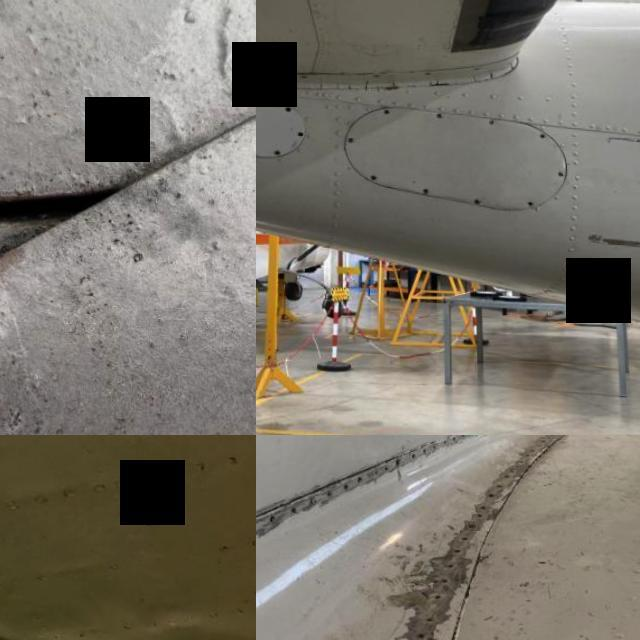Crack: (0, 230, 36, 362)
Dent: (0, 586, 256, 640)
Missing_Fastener: (268, 514, 274, 524), (284, 106, 292, 112), (416, 632, 424, 638), (452, 546, 460, 552), (459, 534, 467, 540), (288, 506, 294, 514), (324, 490, 331, 496), (383, 108, 389, 114), (424, 616, 430, 622), (434, 592, 440, 598), (410, 452, 416, 458), (539, 131, 546, 136), (383, 464, 388, 471), (474, 512, 482, 516), (441, 576, 446, 582), (420, 447, 426, 452), (296, 132, 303, 136), (480, 503, 485, 508), (503, 472, 508, 477), (441, 438, 446, 443), (368, 174, 374, 178), (422, 186, 428, 190), (526, 198, 532, 202), (446, 562, 452, 566), (342, 484, 348, 488), (430, 444, 436, 448), (467, 522, 472, 526), (487, 492, 492, 496), (495, 482, 500, 486), (450, 435, 455, 439)
